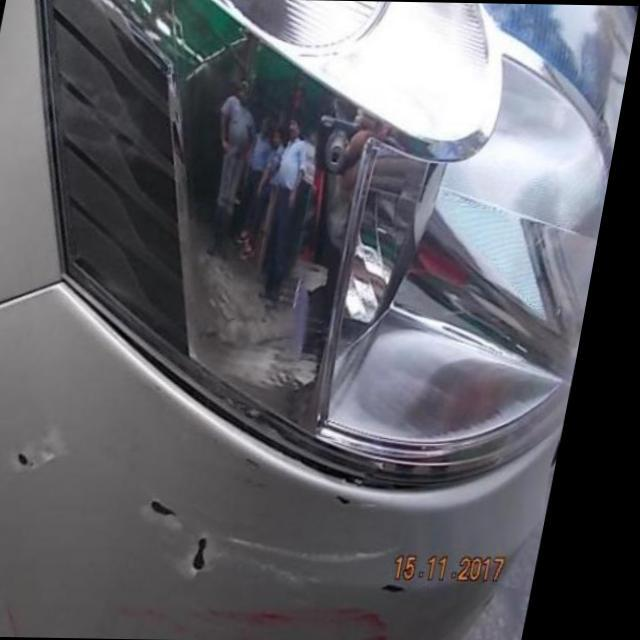scratch: (116, 606, 414, 638), (251, 538, 421, 588), (201, 525, 250, 587), (162, 492, 207, 529), (29, 444, 52, 475), (256, 450, 284, 472), (403, 581, 430, 602), (353, 490, 370, 514)
